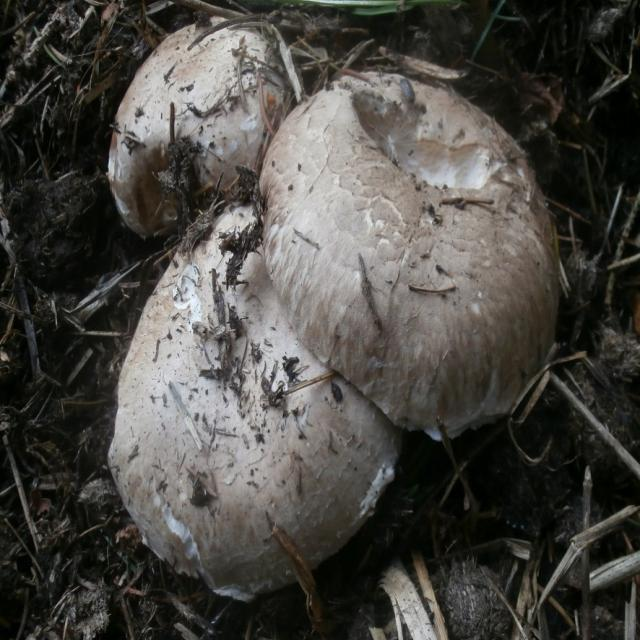Agaricus bisporus: (114, 211, 417, 597), (263, 80, 561, 437), (112, 22, 317, 210)
